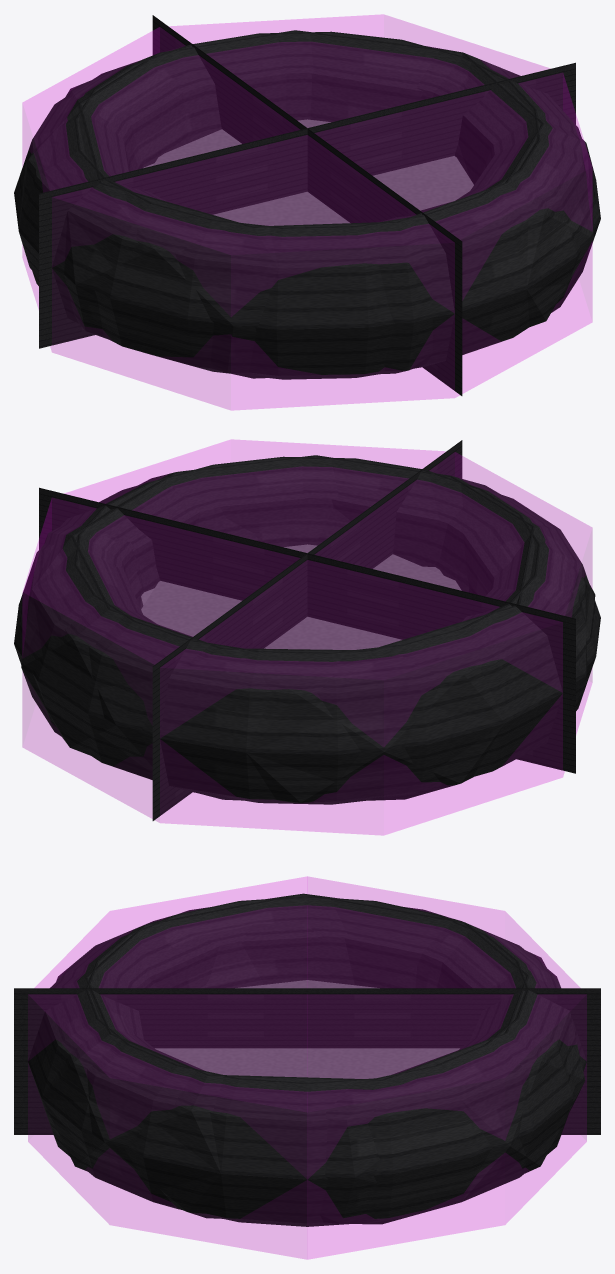
The model's file is tire_single.dae.
3 views of the same model, one above another, from view 1: azimuth 30°, elevation 25°; view 2: azimuth 150°, elevation 25°; view 3: azimuth 270°, elevation 25° (orthographic). The views are drawn at different scales.
Visible parts, largest first — view 1: Colmesh_stack-1, tire_single_a800, tire_single_a200, tire_single_a50; view 2: Colmesh_stack-1, tire_single_a800, tire_single_a200, tire_single_a50; view 3: Colmesh_stack-1, tire_single_a800, tire_single_a200, tire_single_a50.
Boxes of the visible parts, x1,y1,x2,y2 form: Colmesh_stack-1: (22, 14, 592, 410); tire_single_a800: (14, 31, 600, 379); tire_single_a200: (19, 30, 595, 378); tire_single_a50: (39, 15, 575, 395); Colmesh_stack-1: (22, 439, 592, 835); tire_single_a800: (14, 456, 600, 804); tire_single_a200: (21, 455, 595, 802); tire_single_a50: (39, 440, 575, 820); Colmesh_stack-1: (28, 876, 586, 1259); tire_single_a800: (28, 896, 586, 1226); tire_single_a200: (41, 893, 585, 1224); tire_single_a50: (14, 988, 600, 1134).
Size of the model in its own units: 0.798 by 0.798 by 0.2302.
3 materials, 2 textured.
